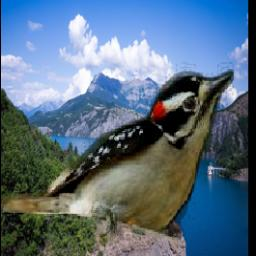Woodpecker: (1, 63, 234, 244)
